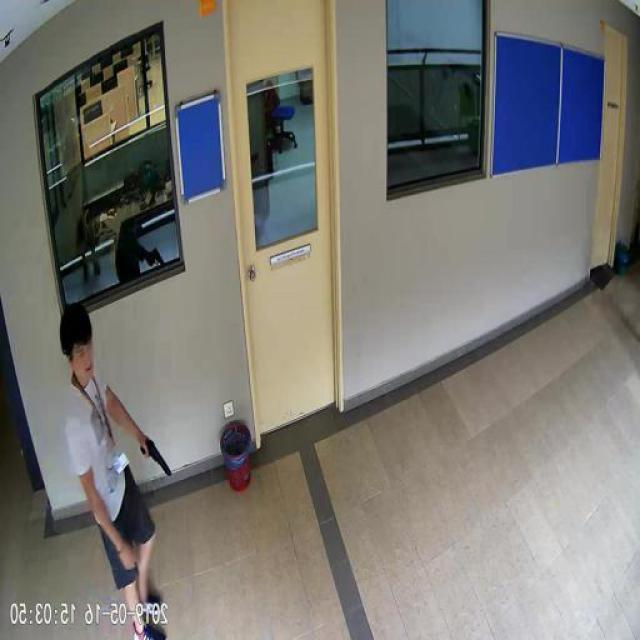weapon: (138, 434, 174, 476)
